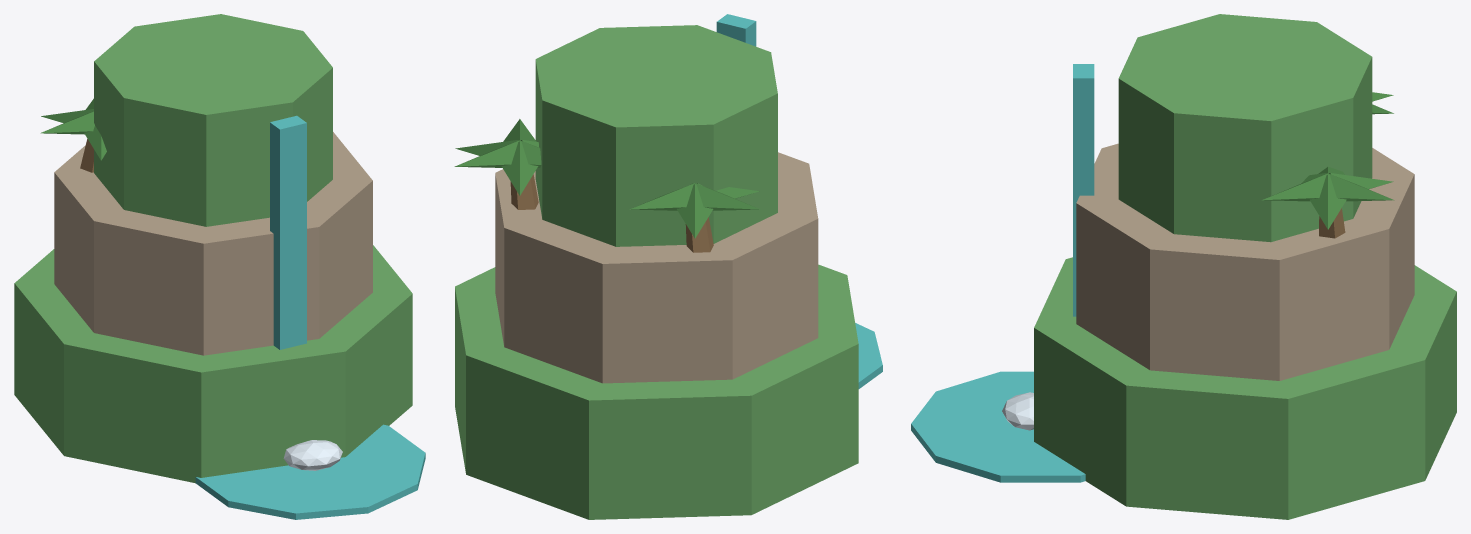
File: jungle-g2.glb
3 renders of one model, left to right at view 1: azimuth 30°, elevation 25°; view 2: azimuth 150°, elevation 25°; view 3: azimuth 270°, elevation 25°, orthographic. The views are drawn at different scales.
Parts seen in each view (by area): view 1: jungle-g2; view 2: jungle-g2; view 3: jungle-g2.
Boxes of the visible parts, box(x1,y1,x2,y2) form: jungle-g2: box(14, 14, 425, 519); jungle-g2: box(454, 14, 882, 519); jungle-g2: box(911, 14, 1456, 519).
Bounding box in the file's own units: 2.74 × 2.6 × 3.54.
